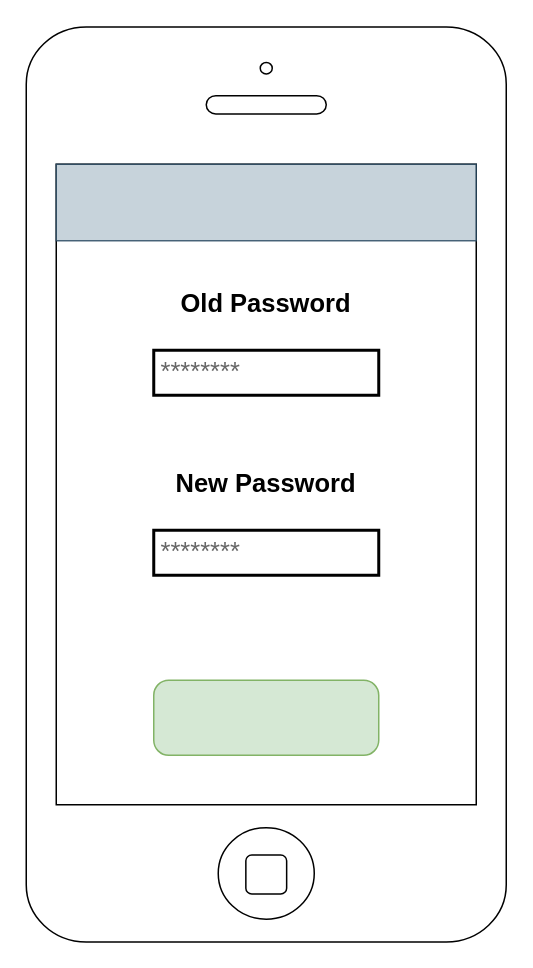
This 533x968 diagram has some shape labels left out. The centre of each missing label's shape, as x and y in pixels:
"Save data" goes at pixel 265 717.
"Update account data" goes at pixel 265 202.
